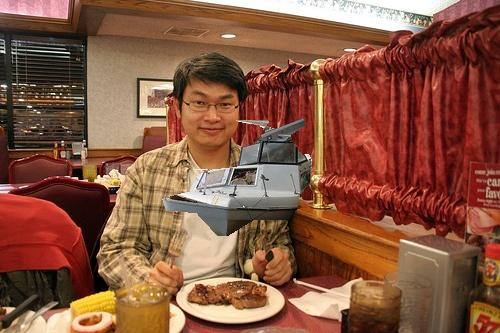tampered: (163, 119, 312, 236)
